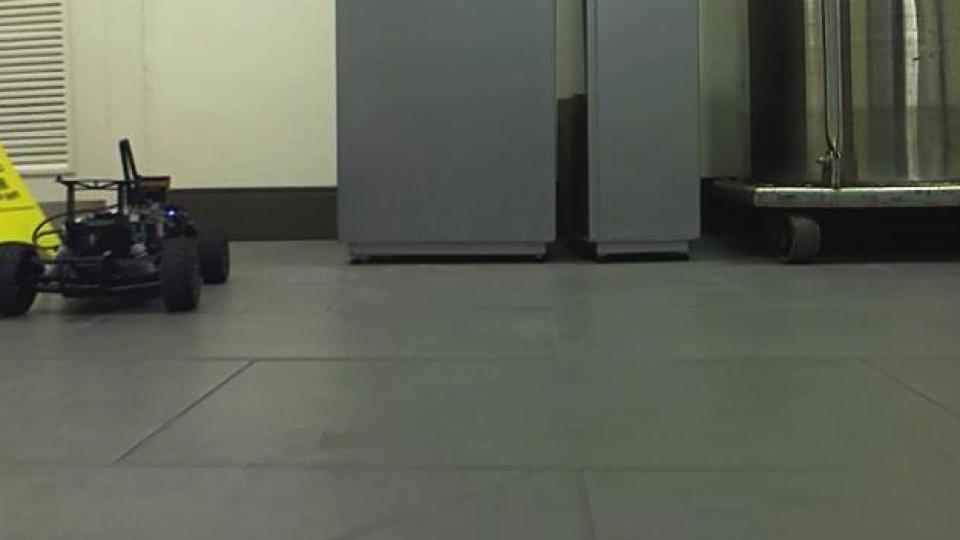car: (0, 134, 232, 319)
